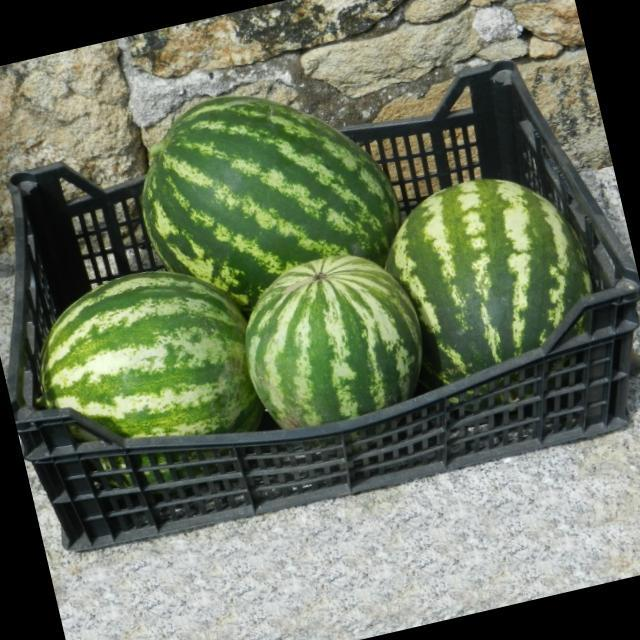WATERMELON: (120, 62, 403, 308), (376, 157, 618, 405), (22, 258, 264, 480), (230, 241, 444, 452)
